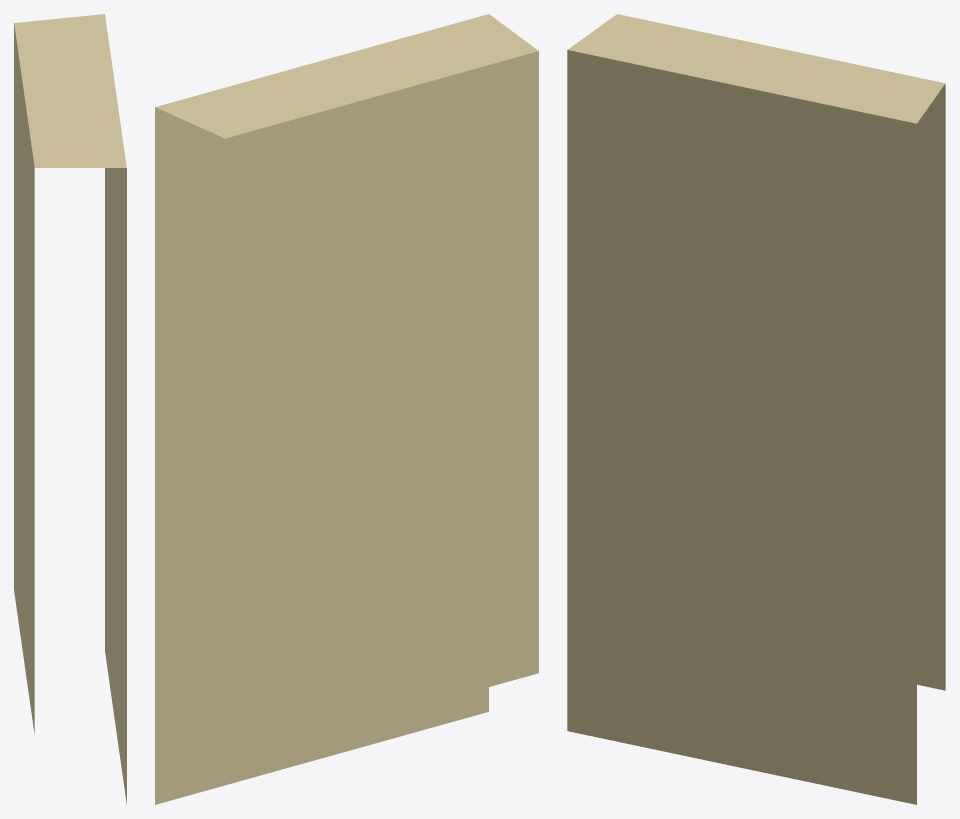
File: wall31.fbx
3 renders of one model, left to right at view 1: azimuth 30°, elevation 25°; view 2: azimuth 150°, elevation 25°; view 3: azimuth 270°, elevation 25°, orthographic. The views are drawn at different scales.
Parts seen in each view (by area): view 1: duvar.005; view 2: duvar.005; view 3: duvar.005.
Boxes of the visible parts, bbox=[...] form: duvar.005: bbox=[14, 14, 126, 804]; duvar.005: bbox=[155, 14, 538, 804]; duvar.005: bbox=[567, 14, 945, 804].
Size of the model in its own units: 15.55 by 44.99 by 22.63.
